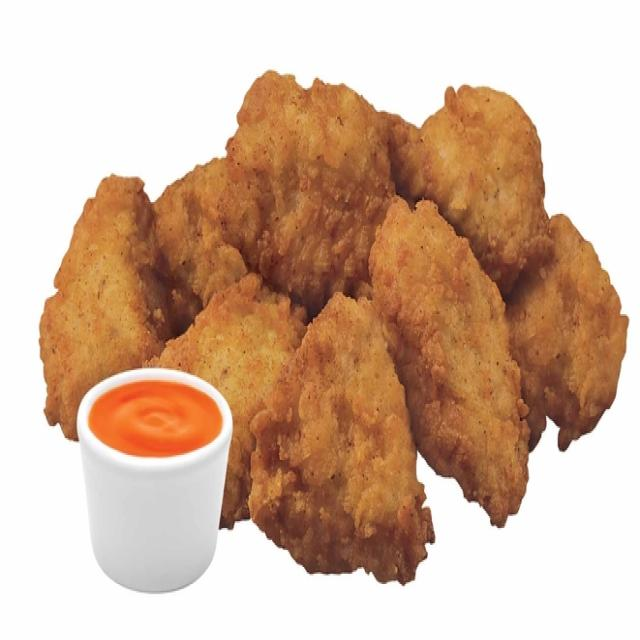鸡肉料理 含炸鸡: (19, 63, 624, 589)
